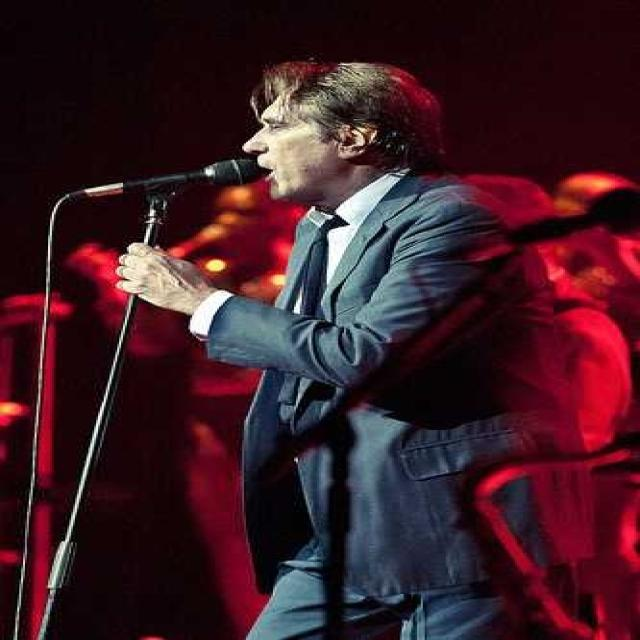microphone: (84, 156, 265, 201), (508, 189, 640, 245)
